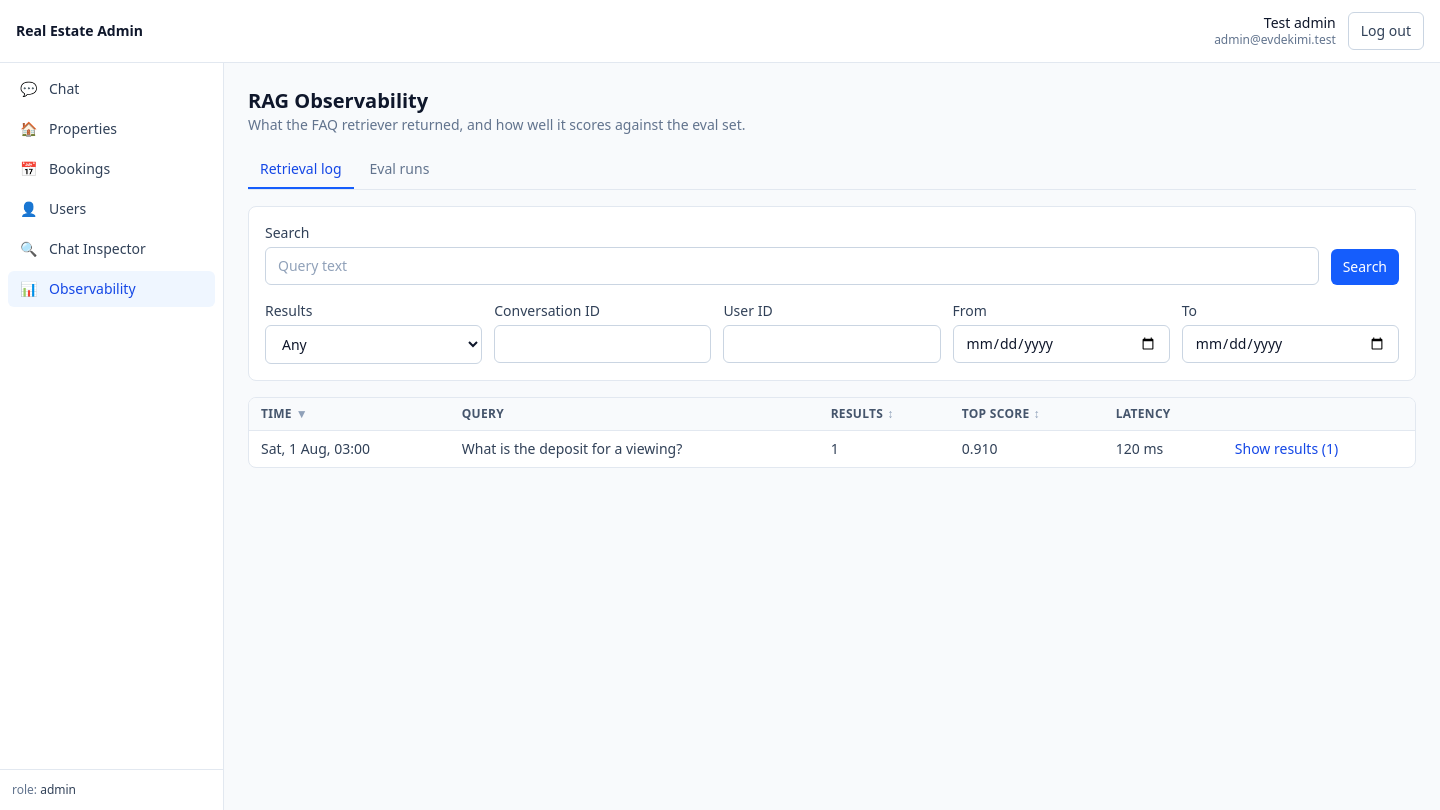
ObservabilityPage retrieval log tab › expands a row to show the retrieved FAQ entries inline, with no separate fetch
expect the text "What is the deposit for a viewing?" is shown: met, box top-left (450, 430), bottom-right (819, 467)
expect the text "What is the booking deposit?" is not shown: met
Click the button "Show results (1)" at [1286, 449], box top-left (1235, 439), bottom-right (1338, 459)
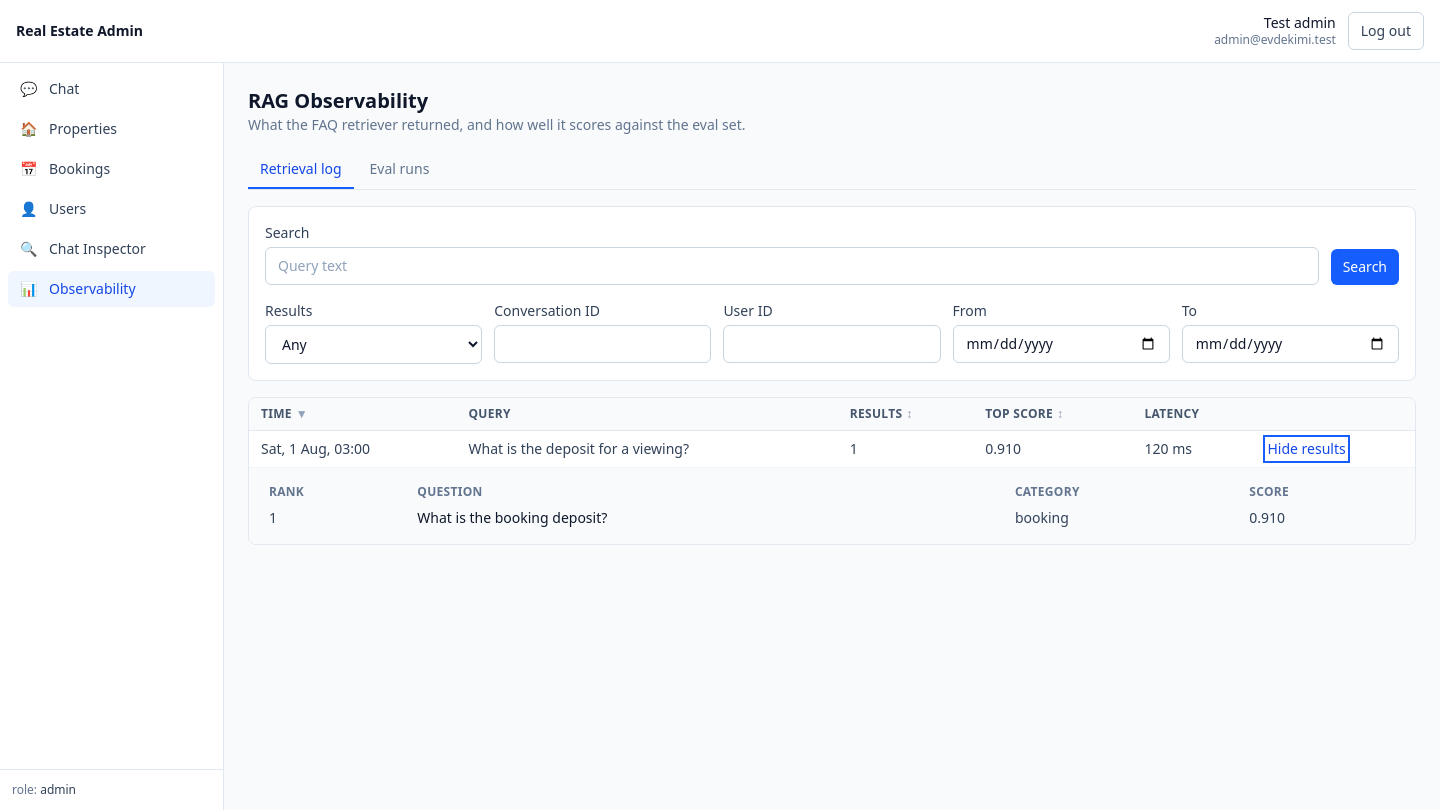
expect the text "What is the booking deposit?" is shown: met, box top-left (409, 504), bottom-right (1007, 532)
expect the text "booking" is shown: met, box top-left (1007, 504), bottom-right (1241, 532)
expect the text "0.910" in the row of "What is the booking deposit?" is shown: met, box top-left (1249, 508), bottom-right (1285, 527)
Click the button "Hide results" at [1307, 449], box top-left (1268, 439), bottom-right (1346, 459)
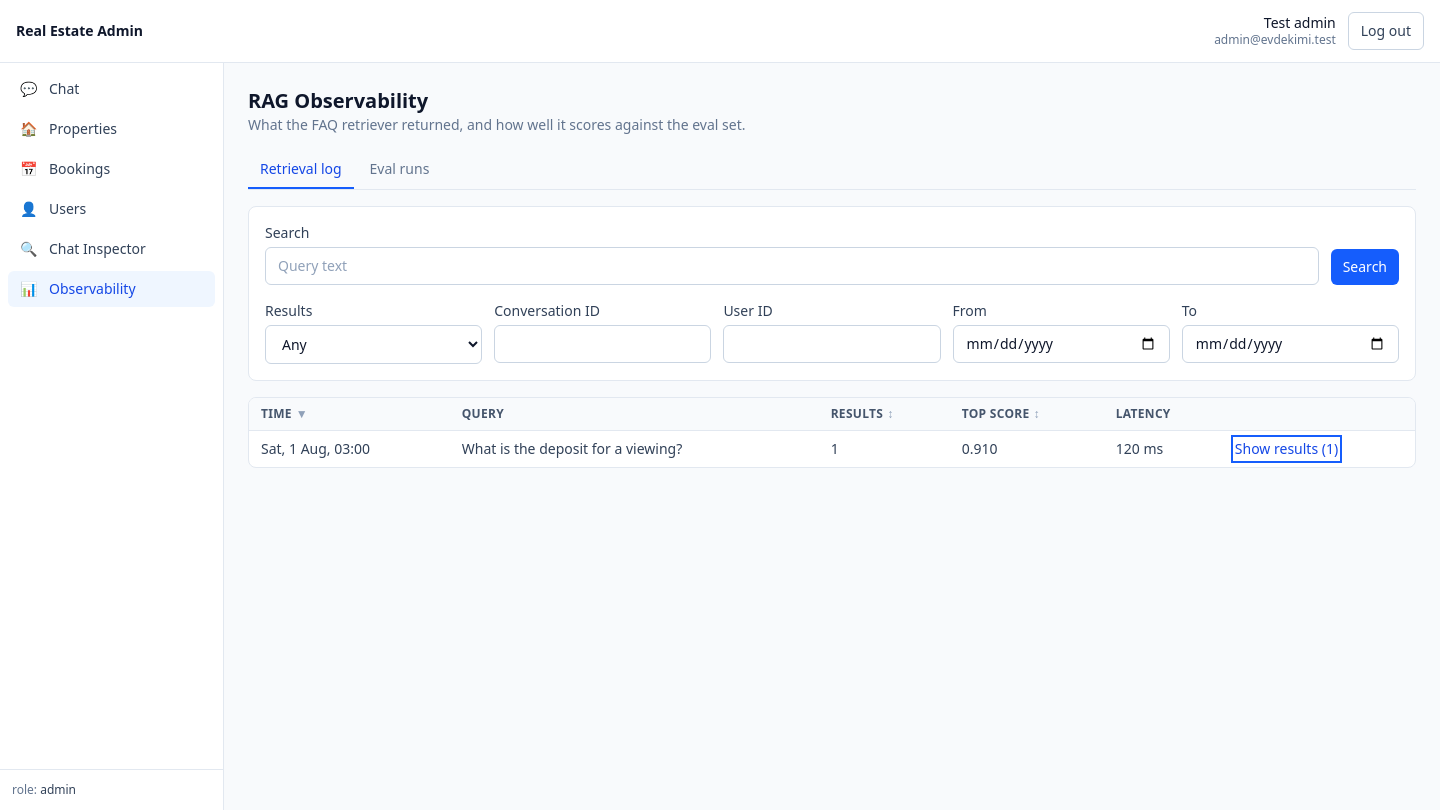
expect the text "What is the booking deposit?" is gone: met
